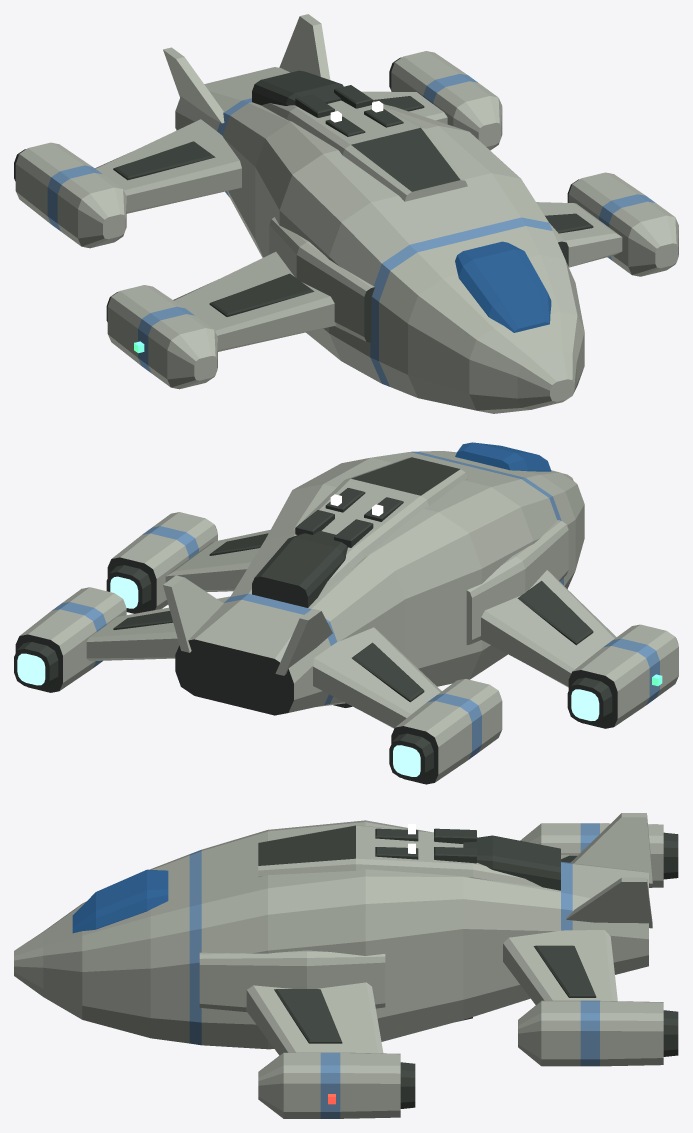
File: alliance-crusader.glb
3 views of the same model, one above another, from view 1: azimuth 30°, elevation 25°; view 2: azimuth 150°, elevation 25°; view 3: azimuth 270°, elevation 25° (orthographic). The views are drawn at different scales.
Visible parts, largest first — view 1: alliance-crusader; view 2: alliance-crusader; view 3: alliance-crusader.
Part boxes in pixels (x1,y1,x2,y2): alliance-crusader: (14,14,678,413); alliance-crusader: (14,442,678,784); alliance-crusader: (14,813,678,1118).
Bounding box in the file's own units: 60.03 × 21.76 × 68.08.
